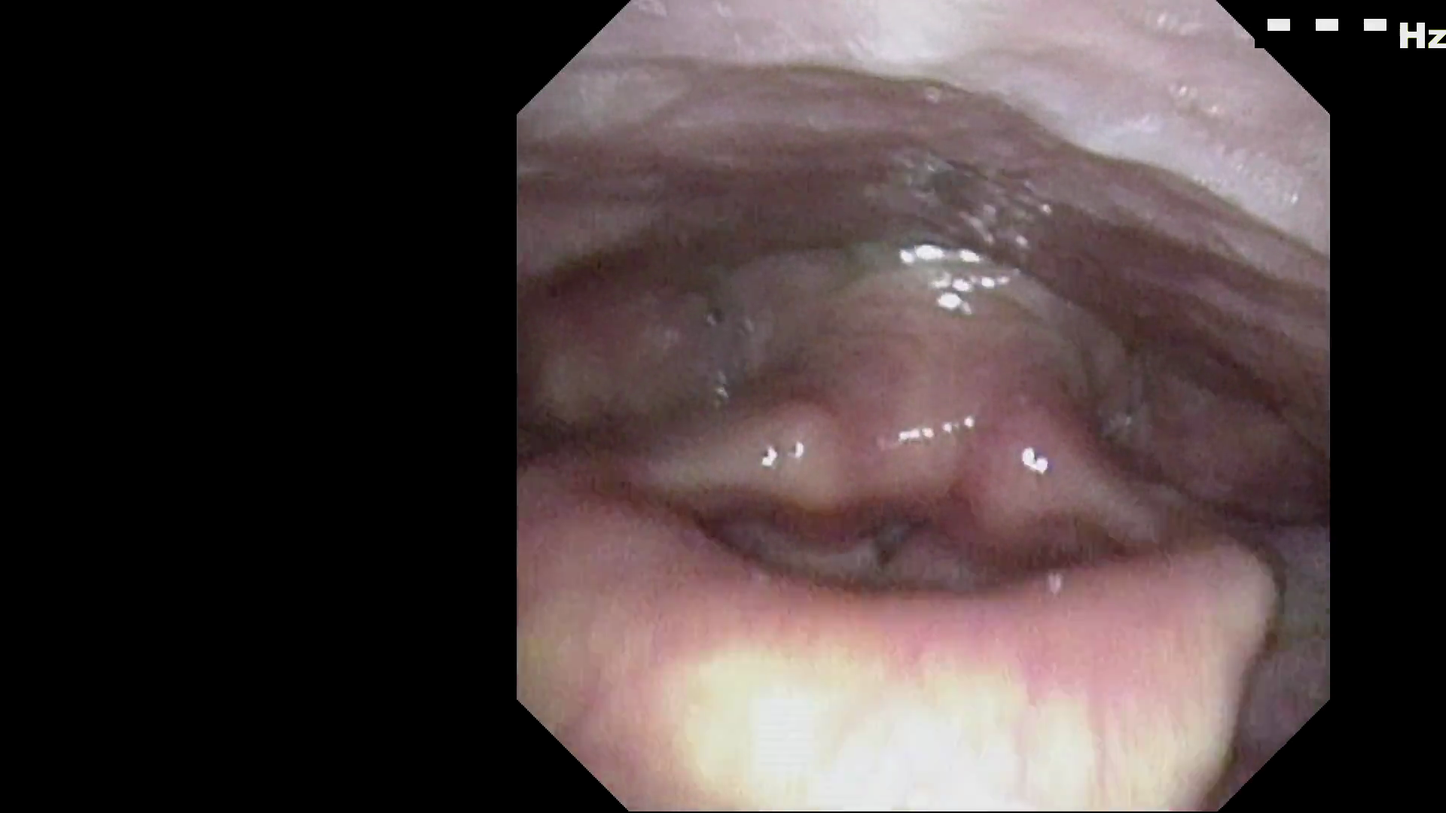epiglottis: (503, 507, 1290, 808)
trachea: (807, 437, 988, 650)
